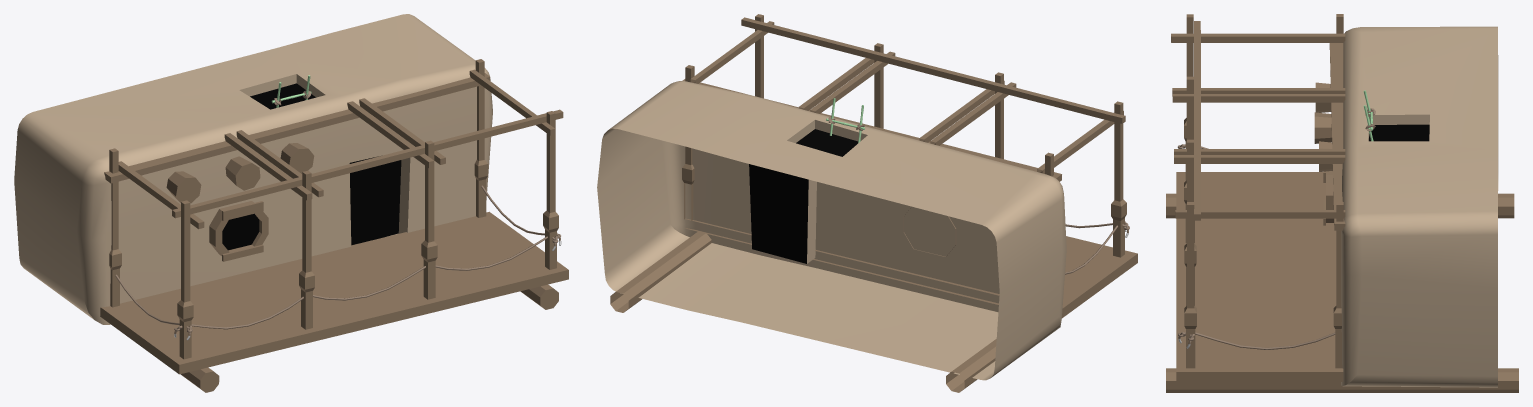
File: pueblo_home_03.fbx
3 renders of one model, left to right at view 1: azimuth 30°, elevation 25°; view 2: azimuth 150°, elevation 25°; view 3: azimuth 270°, elevation 25°, orthographic. The views are drawn at different scales.
Visible parts, largest first — view 1: pueblo_house_03; view 2: pueblo_house_03; view 3: pueblo_house_03.
Part boxes in pixels (x1,y1,x2,y2): pueblo_house_03: (14, 14, 568, 392); pueblo_house_03: (597, 14, 1137, 392); pueblo_house_03: (1166, 14, 1518, 392).
Size of the model in its own units: 1224 by 570 by 865.
